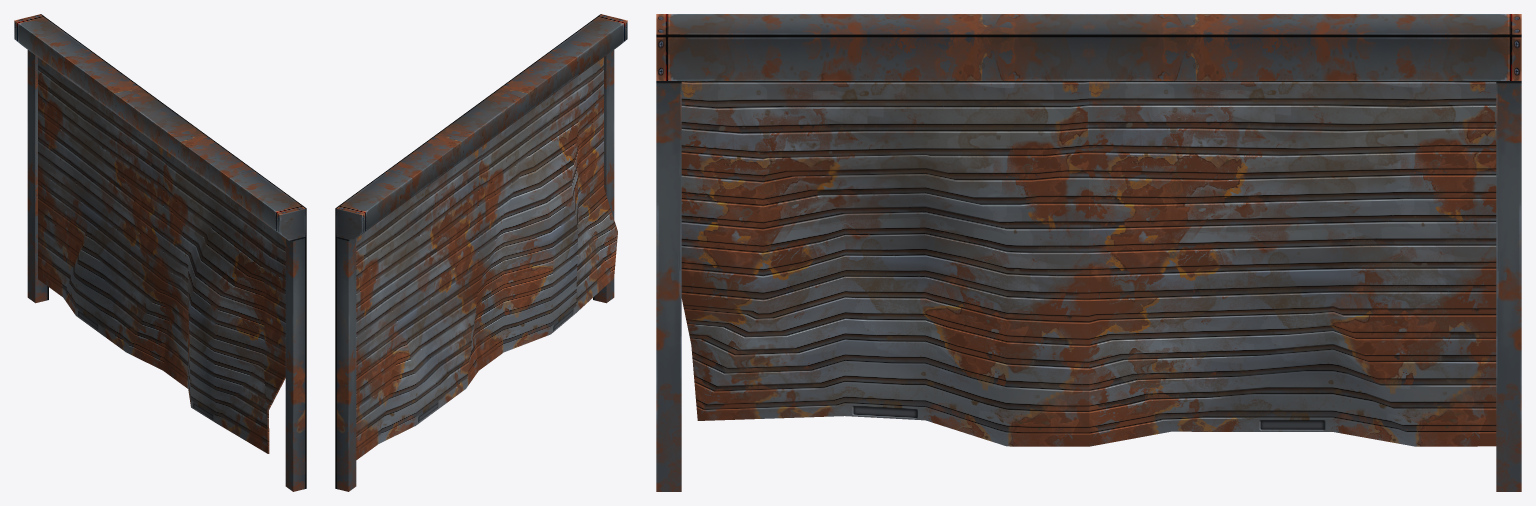
File: rollerShutter02_6m_B.fbx
The picture shows the model from 3 angles, left to right: view 1: azimuth 30°, elevation 25°; view 2: azimuth 150°, elevation 25°; view 3: azimuth 270°, elevation 25°; orthographic projection. The views are drawn at different scales.
Visible parts, largest first — view 1: rollerShutter02_6m_B; view 2: rollerShutter02_6m_B; view 3: rollerShutter02_6m_B.
Boxes of the visible parts, x1,y1,x2,y2 form: rollerShutter02_6m_B: (14, 14, 306, 491); rollerShutter02_6m_B: (335, 14, 627, 491); rollerShutter02_6m_B: (656, 14, 1521, 491).
Bounding box in the file's own units: 39.13 × 300 × 515.
